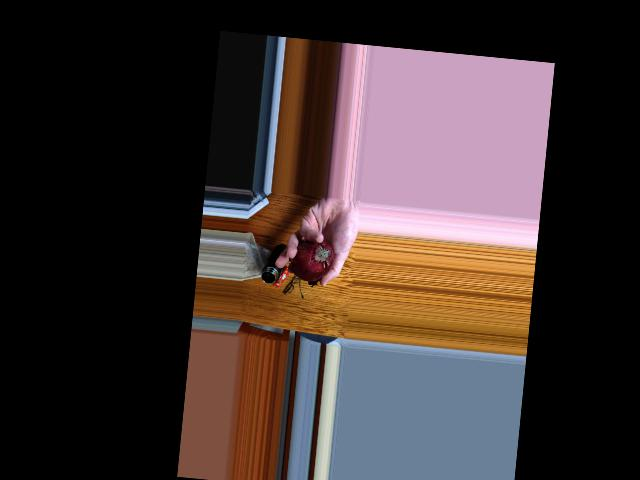onion: (293, 236, 335, 282)
